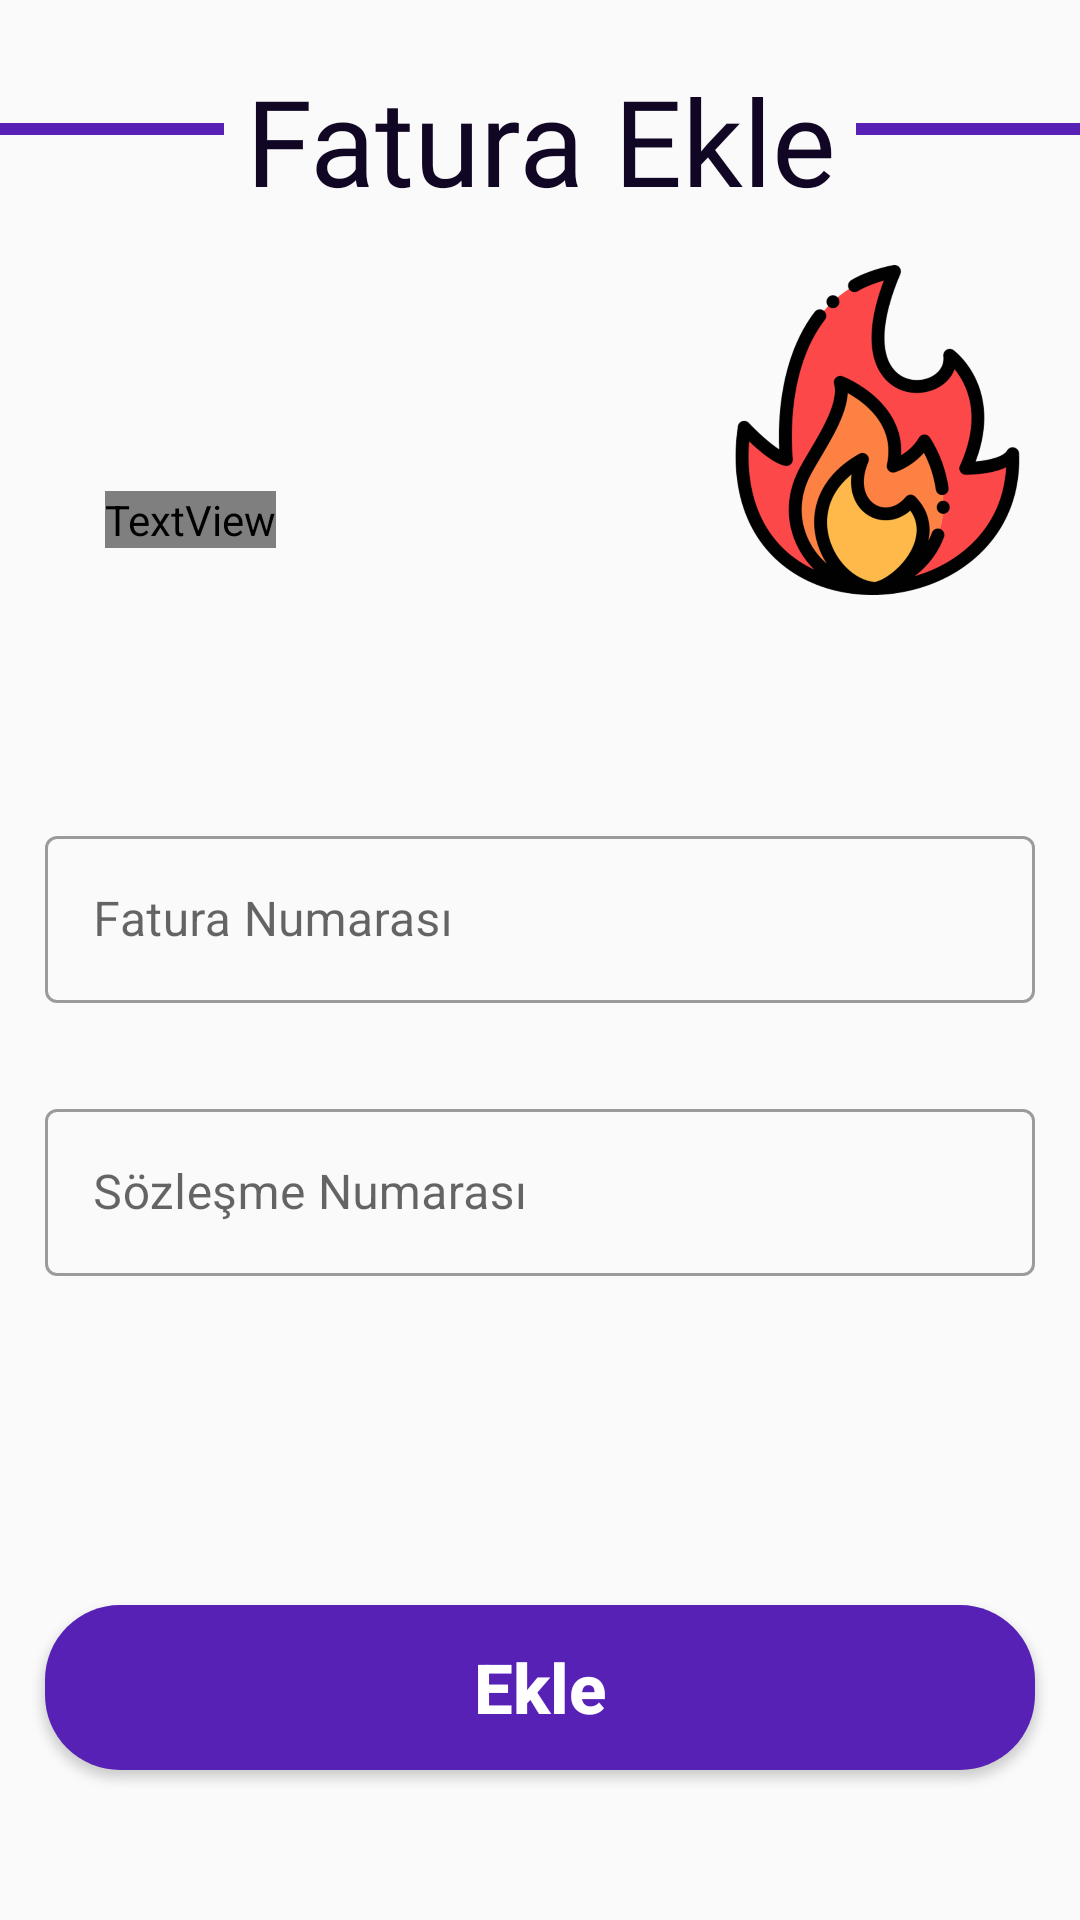

Where to tap for icons on this 1080 x 1920 app screen, as (x,y):
gaz: (877,430)
